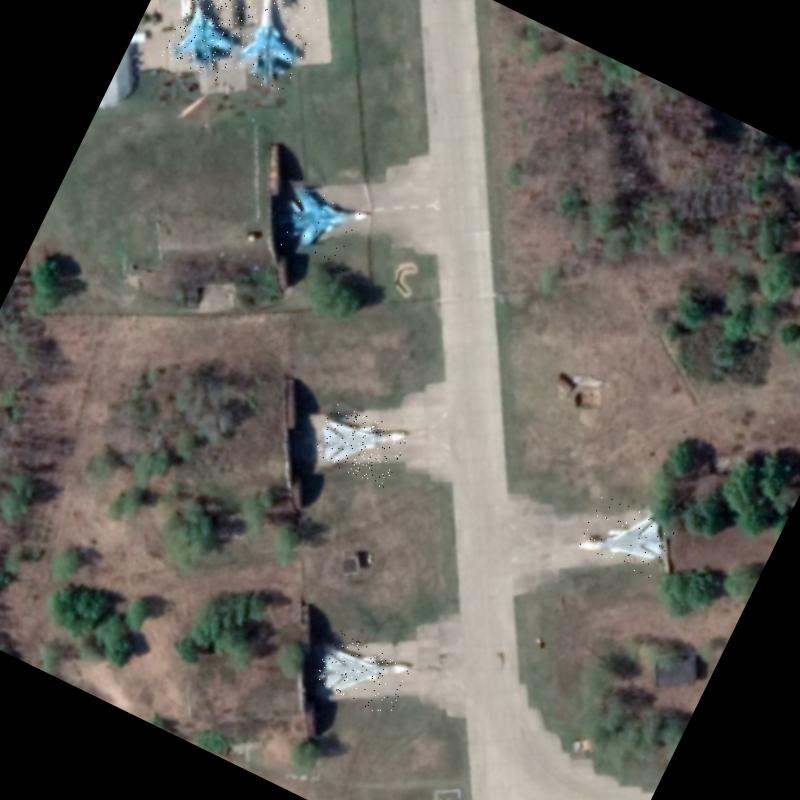A19: (267, 176, 373, 276), (225, 0, 322, 96), (161, 0, 255, 83)
A20: (311, 628, 413, 718), (310, 399, 410, 490), (576, 492, 676, 582)
